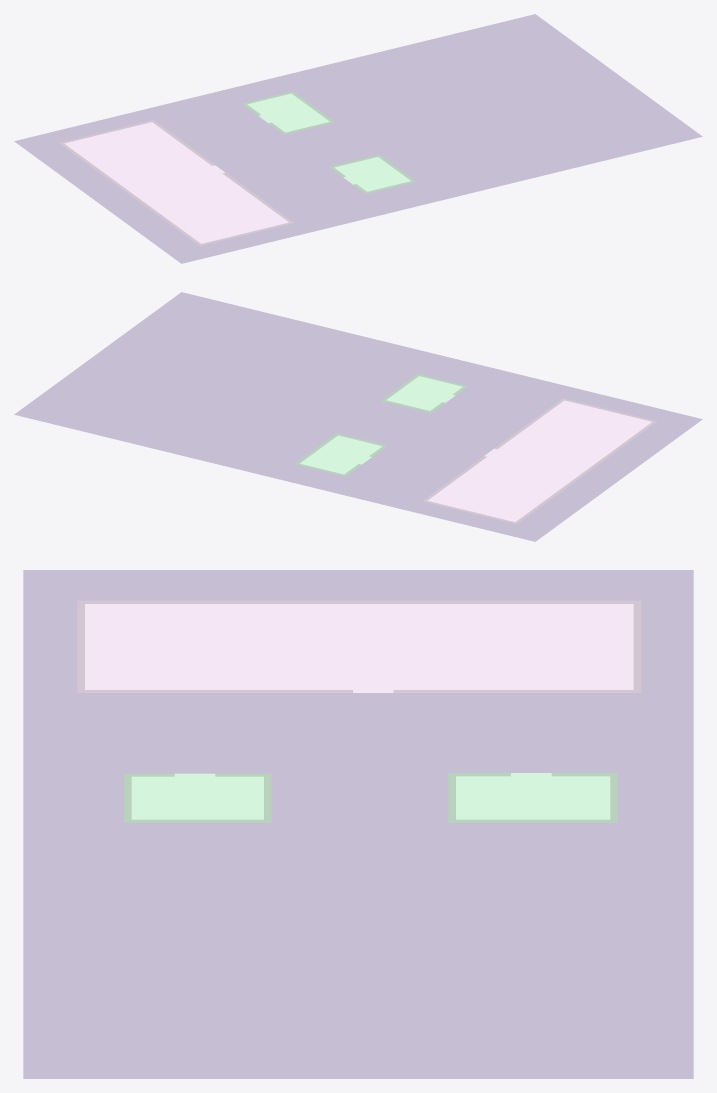
Rendered from Building_2F.glb.
3 views of the same model, one above another, from view 1: azimuth 30°, elevation 25°; view 2: azimuth 150°, elevation 25°; view 3: azimuth 270°, elevation 25° (orthographic). The views are drawn at different scales.
Parts seen in each view (by area): view 1: Ground_node, Block_node, Facility_node; view 2: Ground_node, Block_node, Facility_node; view 3: Ground_node, Block_node, Facility_node.
Part boxes in pixels (x1,y1,x2,y2): Ground_node: [14, 14, 702, 263]; Block_node: [59, 120, 293, 245]; Facility_node: [242, 91, 415, 193]; Ground_node: [14, 292, 702, 541]; Block_node: [422, 398, 657, 524]; Facility_node: [295, 374, 467, 476]; Ground_node: [23, 570, 693, 1078]; Block_node: [77, 600, 641, 692]; Facility_node: [124, 773, 617, 822].
Bounding box in the file's own units: 23.84 × 0.0178 × 13.27.
